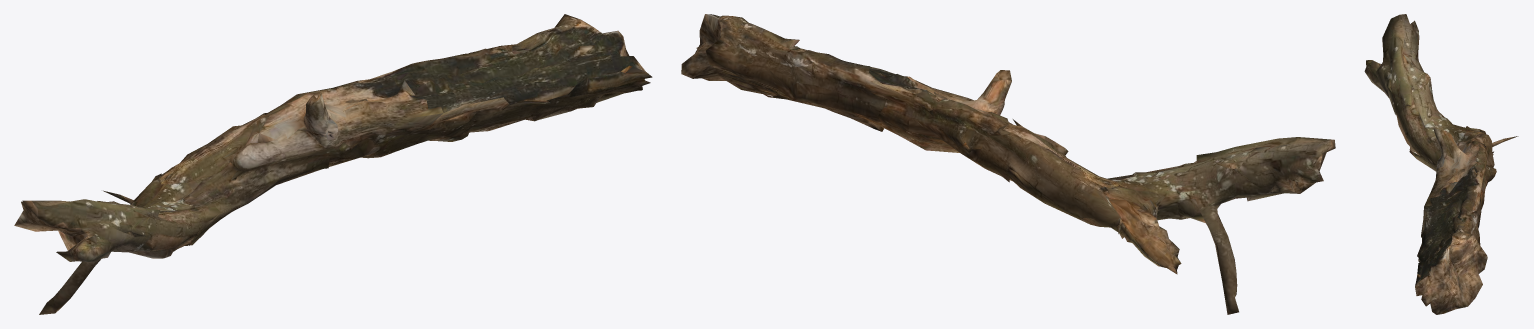
The model's file is dead_tree_trunk_02.glb.
3 renders of one model, left to right at view 1: azimuth 30°, elevation 25°; view 2: azimuth 150°, elevation 25°; view 3: azimuth 270°, elevation 25°, orthographic. The views are drawn at different scales.
Visible parts, largest first — view 1: dead_tree_trunk_02; view 2: dead_tree_trunk_02; view 3: dead_tree_trunk_02.
Boxes of the visible parts, bbox=[...] form: dead_tree_trunk_02: bbox=[14, 14, 652, 314]; dead_tree_trunk_02: bbox=[681, 14, 1335, 314]; dead_tree_trunk_02: bbox=[1364, 14, 1518, 314].
Size of the model in its own units: 4.05 by 1.05 by 1.05.
1 material, 1 textured.
